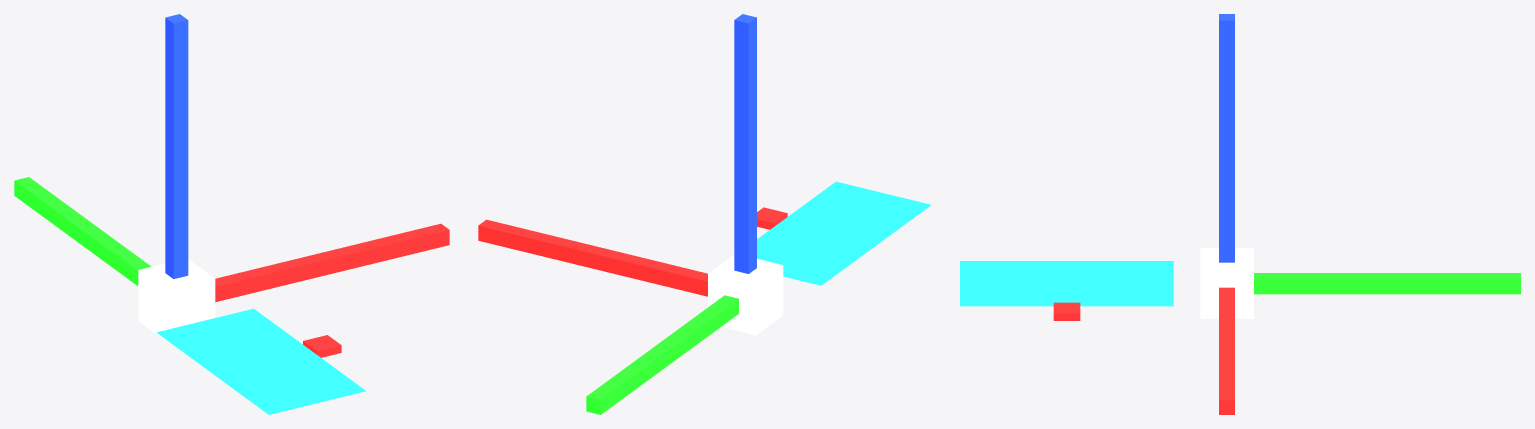
Rendered from axes.glb.
The picture shows the model from 3 angles, left to right: view 1: azimuth 30°, elevation 25°; view 2: azimuth 150°, elevation 25°; view 3: azimuth 270°, elevation 25°; orthographic projection. The views are drawn at different scales.
Visible parts, largest first — view 1: solar_1, z, x, body, y, tab; view 2: solar_1, z, x, y, body, tab; view 3: solar_1, y, z, body, x, tab.
Part boxes in pixels (x1=…): solar_1: x1=156, y1=308, x2=366, y2=414; z: x1=165, y1=14, x2=188, y2=278; x: x1=215, y1=223, x2=449, y2=302; body: x1=138, y1=259, x2=215, y2=341; y: x1=14, y1=177, x2=151, y2=285; tab: x1=303, y1=335, x2=341, y2=357; solar_1: x1=757, y1=181, x2=930, y2=285; z: x1=734, y1=14, x2=756, y2=273; x: x1=478, y1=219, x2=707, y2=296; y: x1=586, y1=295, x2=738, y2=414; body: x1=708, y1=254, x2=783, y2=335; tab: x1=757, y1=207, x2=787, y2=229; solar_1: x1=960, y1=261, x2=1173, y2=306; y: x1=1254, y1=273, x2=1520, y2=294; z: x1=1219, y1=14, x2=1234, y2=262; body: x1=1200, y1=248, x2=1253, y2=318; x: x1=1219, y1=287, x2=1234, y2=414; tab: x1=1053, y1=302, x2=1080, y2=320.
Size of the model in its own units: 13 by 12 by 21.
